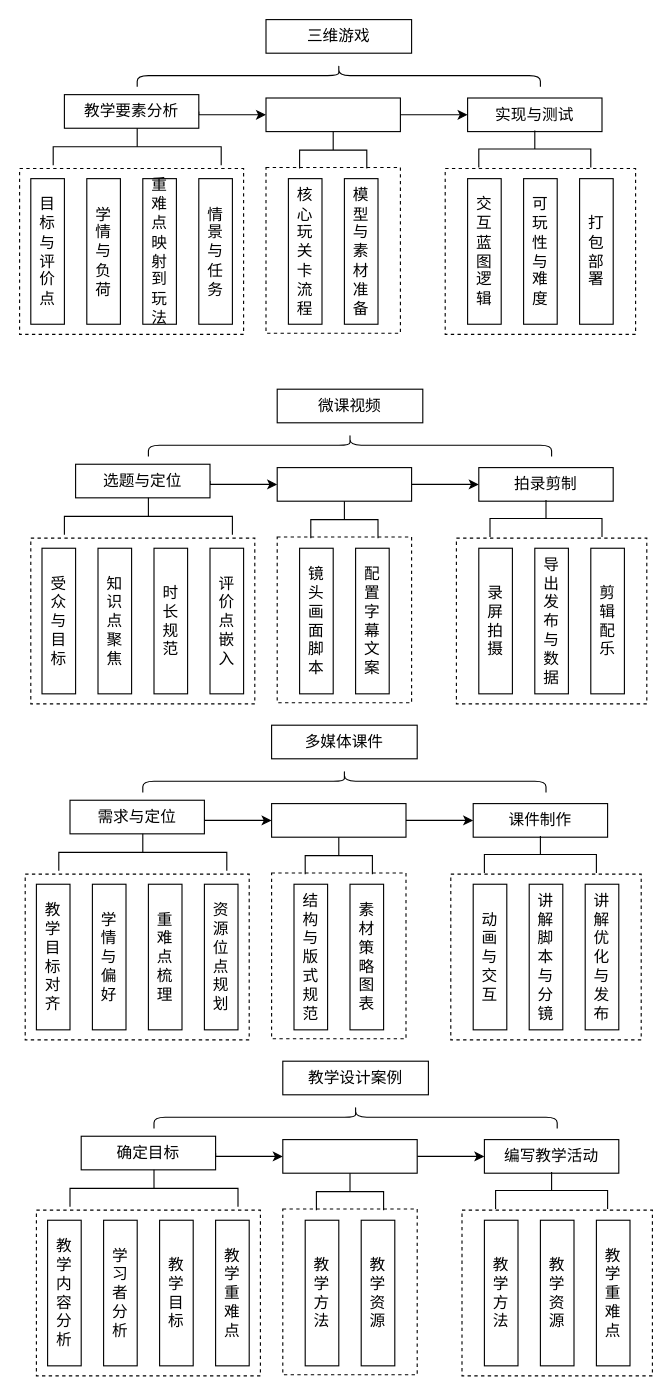
This 672x1396 diagram has some shape labels left out. The shapes that lost their labels are listed below. From the top down, each one's centre as x and y in pixels, then its label:
At point (332, 114): "关卡与资源".
At point (344, 483): "脚本设计".
At point (338, 819): "课件设计".
At point (349, 1155): "设计教学内容".
